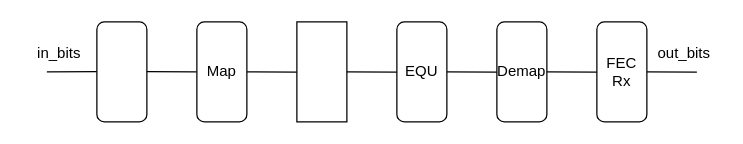
The diagram is 743 pixels wide and 144 high, and some of its shapes have lost their labels. Here are the shapes that lost their labels. From the top down, the box of each, then its label:
(96, 21, 147, 122): FEC Tx
(296, 21, 347, 122): I, H, AWGN
